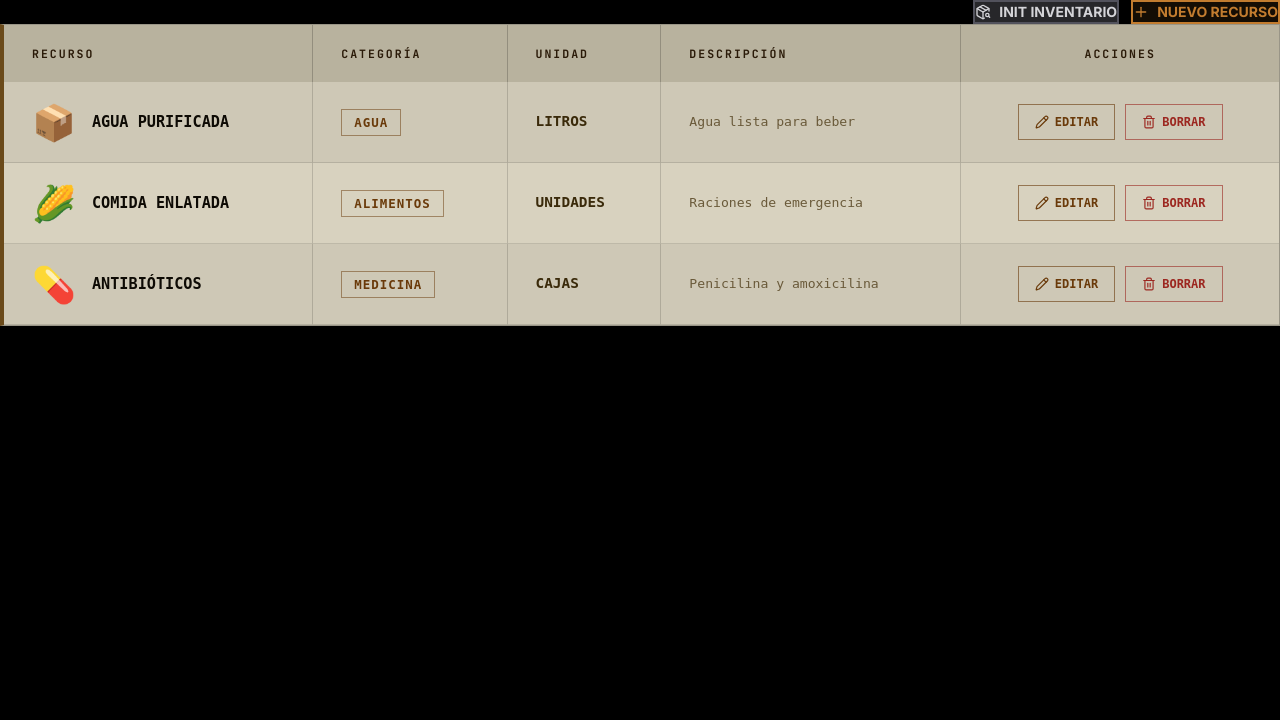
Test: ManagerCatalog › opens create form when NUEVO RECURSO is clicked
Click the button "NUEVO RECURSO": (1206, 12) x1=1131 y1=0 x2=1279 y2=24
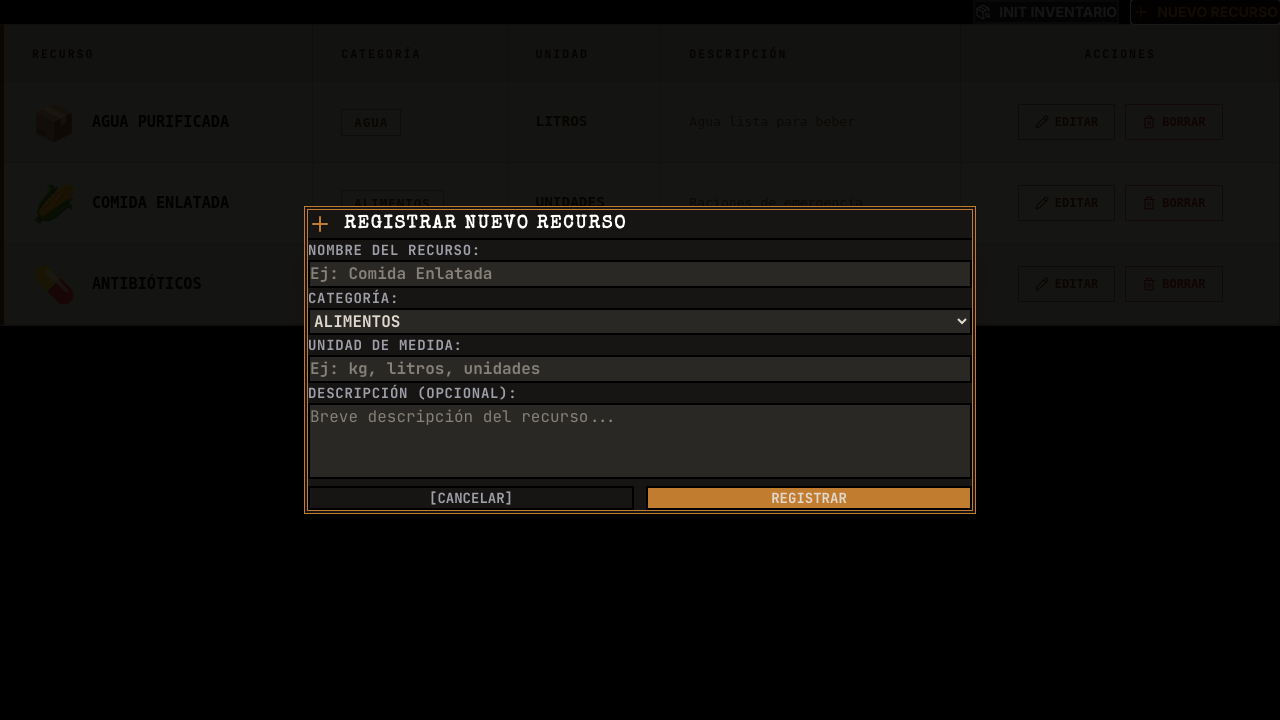
Check: the heading "REGISTRAR NUEVO RECURSO" is shown, box x1=344 y1=210 x2=627 y2=238
